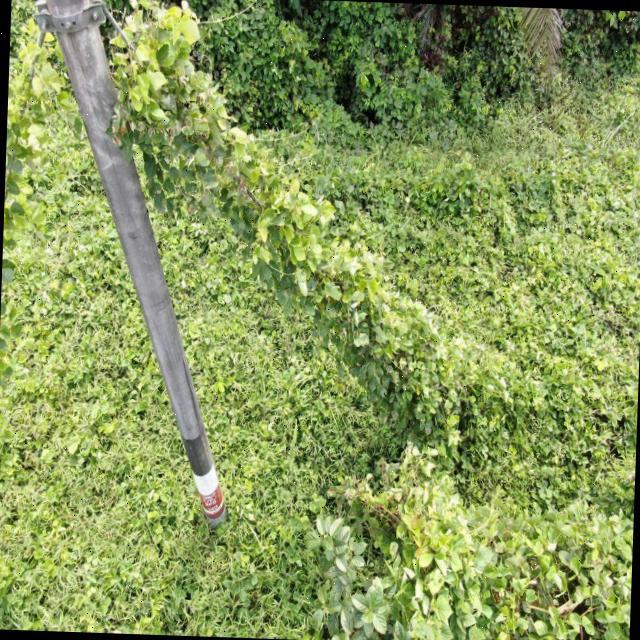critical vegetation: (91, 2, 502, 438)
